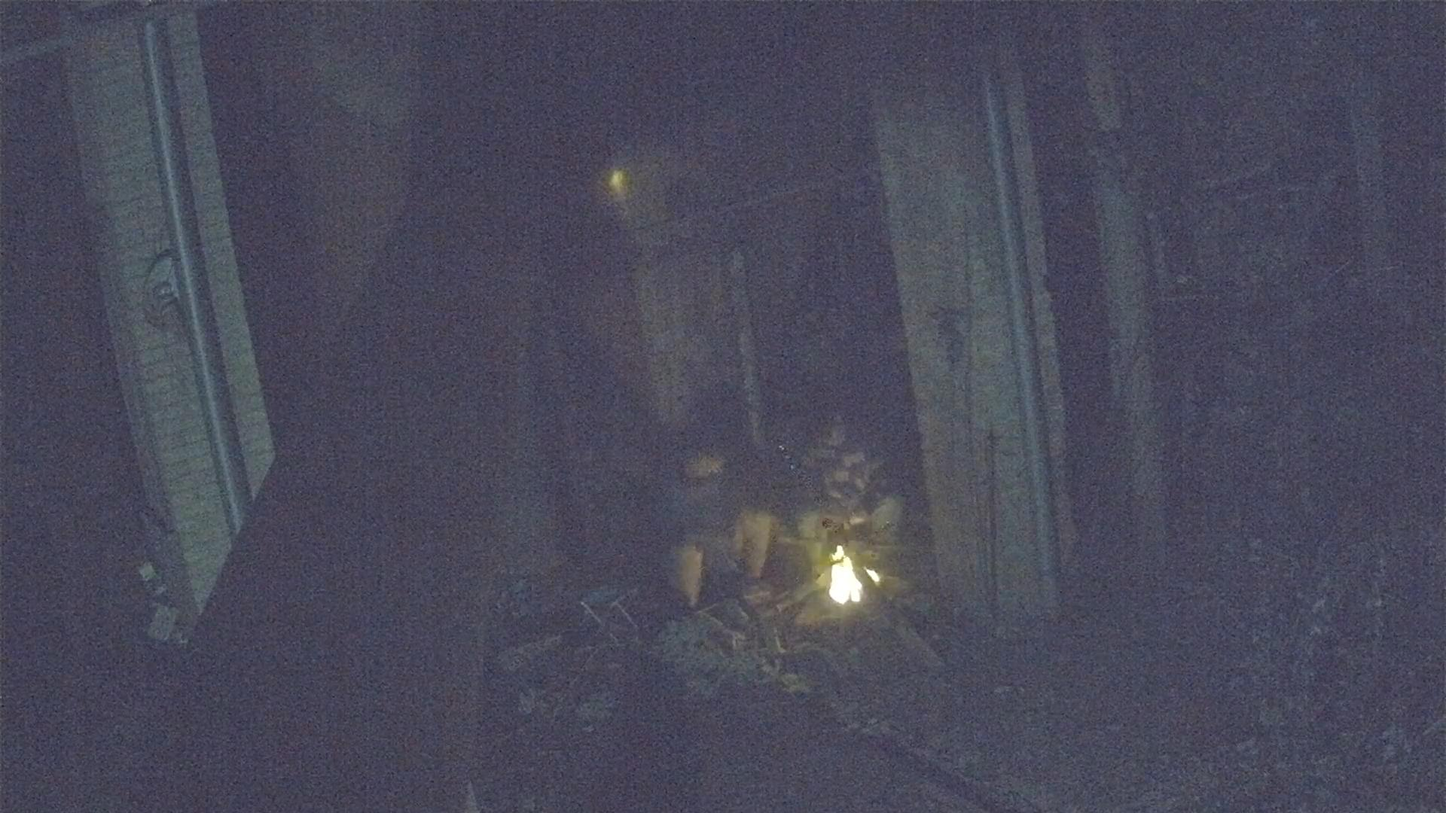fire: (829, 545, 864, 604), (864, 569, 880, 583)
